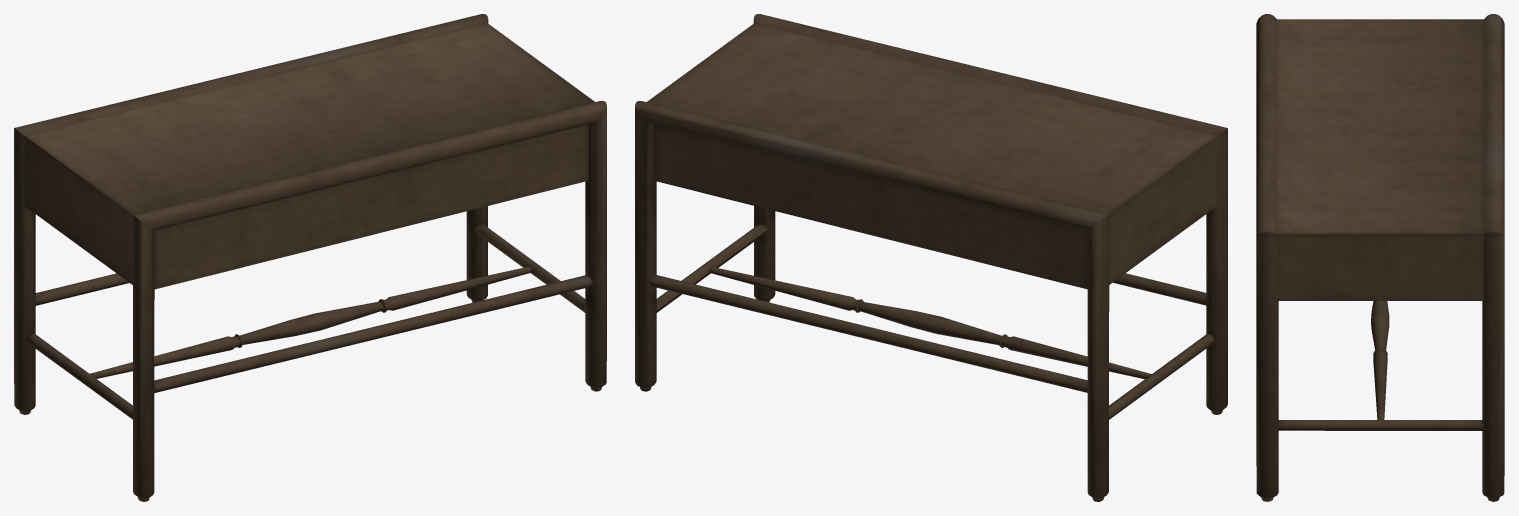
The model's file is small_wooden_table_01.fbx.
The picture shows the model from 3 angles, left to right: view 1: azimuth 30°, elevation 25°; view 2: azimuth 150°, elevation 25°; view 3: azimuth 270°, elevation 25°; orthographic projection. The views are drawn at different scales.
Visible parts, largest first — view 1: small_wooden_table_01; view 2: small_wooden_table_01; view 3: small_wooden_table_01.
Boxes of the visible parts, bbox=[...] form: small_wooden_table_01: bbox=[14, 14, 606, 501]; small_wooden_table_01: bbox=[635, 14, 1227, 501]; small_wooden_table_01: bbox=[1256, 14, 1504, 501].
Bounding box in the file's own units: 0.9162 × 0.5331 × 0.44.
